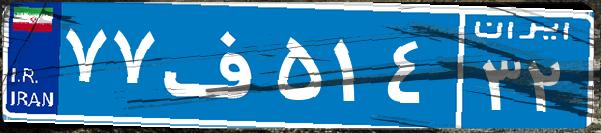1: (330, 28, 385, 110)
2: (525, 38, 570, 115)
3: (475, 38, 525, 113)
4: (385, 28, 445, 110)
5: (273, 28, 330, 110)
7: (57, 26, 110, 107), (110, 28, 158, 105)
ف: (158, 15, 273, 115)
